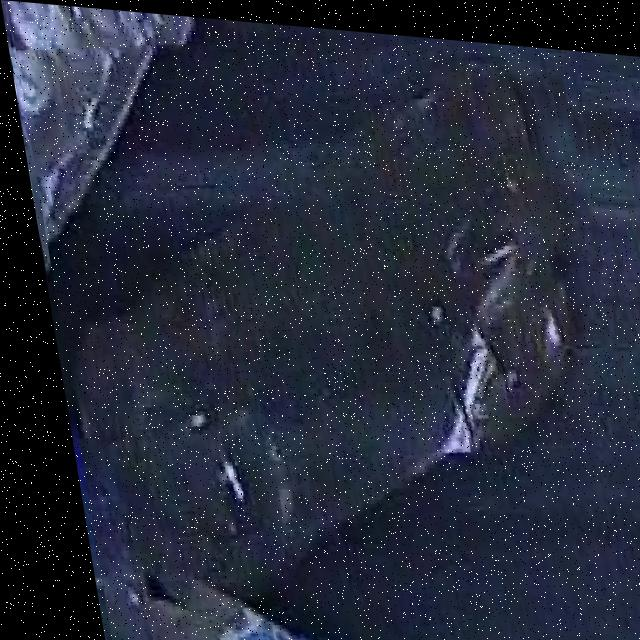plasticbottle: (54, 36, 616, 640)
